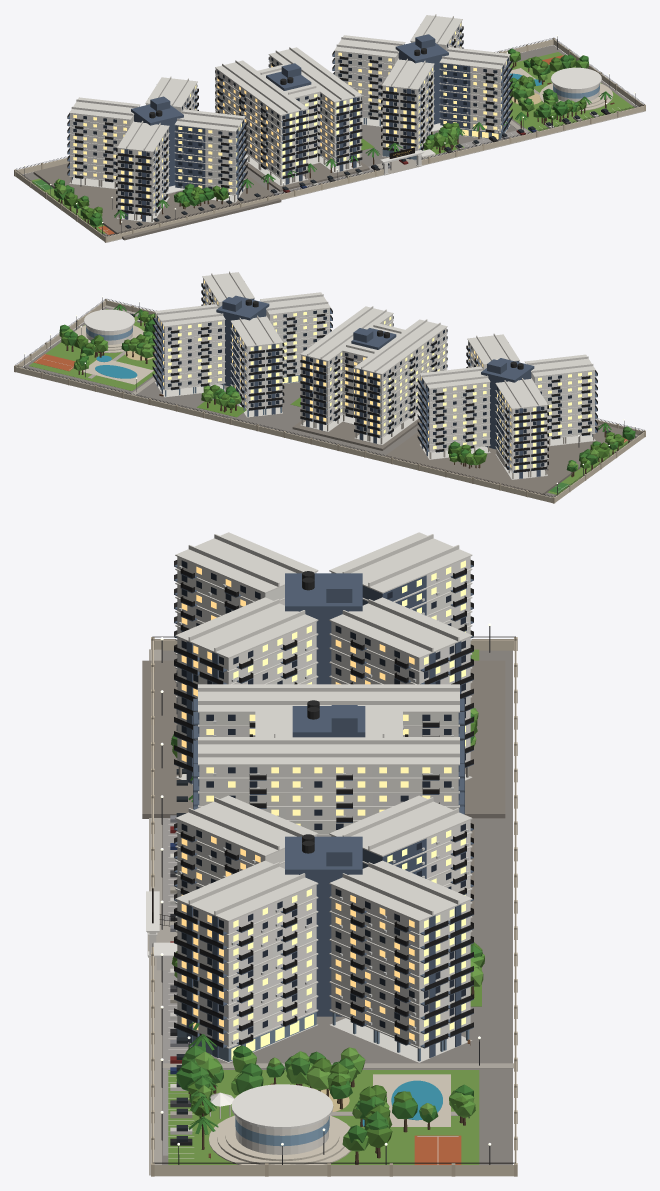
Rendered from ratan-galaxy.glb.
3 renders of one model, top to bottom at view 1: azimuth 30°, elevation 25°; view 2: azimuth 150°, elevation 25°; view 3: azimuth 270°, elevation 25°, orthographic. The views are drawn at different scales.
Parts seen in each view (by area): view 1: C_slabs, C_flats, A_slabs, A_flats, B_slabs, B_flats, trees_crowns, C_plinth, boundary_wall, C_blue, A_blue, C_rails (+24 smaller); view 2: C_flats, A_flats, C_slabs, A_slabs, B_slabs, B_flats, boundary_wall, trees_crowns, C_plinth, ground_paving, C_rails, C_blue (+24 smaller); view 3: A_flats, A_slabs, ground_paving, C_slabs, B_slabs, C_flats, B_flats, C_plinth, trees_crowns, A_rails, A_blue, gardens (+27 smaller).
Part boxes in pixels (left/top/right/bottom): C_slabs: left=69, top=76, right=245, bottom=222; C_flats: left=70, top=84, right=244, bottom=214; A_slabs: left=334, top=14, right=510, bottom=156; A_flats: left=335, top=21, right=509, bottom=150; B_slabs: left=215, top=47, right=362, bottom=186; B_flats: left=215, top=55, right=361, bottom=177; trees_crowns: left=54, top=48, right=588, bottom=226; C_plinth: left=33, top=163, right=281, bottom=240; boundary_wall: left=15, top=39, right=644, bottom=241; C_blue: left=72, top=96, right=243, bottom=221; A_blue: left=389, top=34, right=508, bottom=159; C_rails: left=67, top=85, right=247, bottom=215; C_flats: left=420, top=341, right=594, bottom=471; A_flats: left=155, top=278, right=329, bottom=409; C_slabs: left=419, top=333, right=595, bottom=479; A_slabs: left=154, top=271, right=330, bottom=417; B_slabs: left=300, top=306, right=447, bottom=445; B_flats: left=301, top=314, right=446, bottom=436; boundary_wall: left=15, top=300, right=644, bottom=502; trees_crowns: left=59, top=311, right=635, bottom=471; C_plinth: left=385, top=423, right=622, bottom=495; ground_paving: left=22, top=307, right=636, bottom=497; C_rails: left=417, top=345, right=597, bottom=472; C_blue: left=421, top=358, right=592, bottom=478; A_flats: left=177, top=820, right=470, bottom=1046; A_slabs: left=175, top=795, right=472, bottom=1062; ground_paving: left=162, top=650, right=512, bottom=1164; C_slabs: left=175, top=532, right=472, bottom=784; B_slabs: left=198, top=684, right=459, bottom=835; C_flats: left=177, top=556, right=470, bottom=764; B_flats: left=199, top=712, right=458, bottom=836; C_plinth: left=142, top=660, right=505, bottom=818; trees_crowns: left=171, top=708, right=484, bottom=1151; A_rails: left=174, top=823, right=473, bottom=1047; A_blue: left=186, top=836, right=461, bottom=1057; gardens: left=168, top=649, right=479, bottom=1164.
Bounding box in the file's own units: 242 × 35.52 × 72.35.
